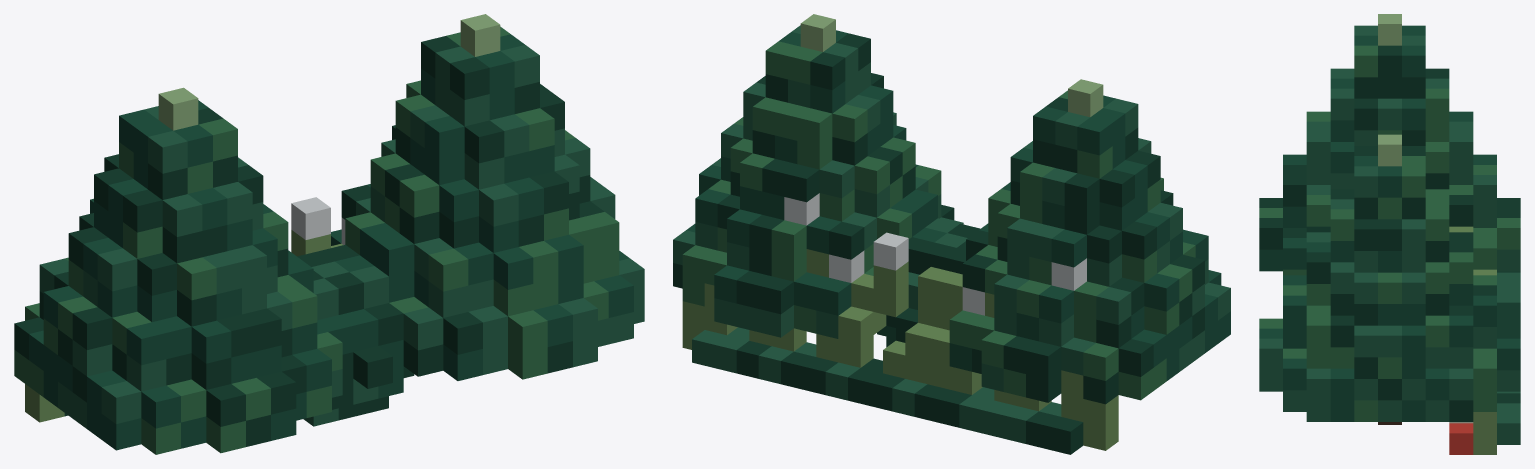
The model's file is spawn_cover_02.fbx.
3 views of the same model, side by side, from view 1: azimuth 30°, elevation 25°; view 2: azimuth 150°, elevation 25°; view 3: azimuth 270°, elevation 25° (orthographic). The views are drawn at different scales.
Parts seen in each view (by area): view 1: spawn_cover_02_LeftLobe, spawn_cover_02_RightLobe; view 2: spawn_cover_02_LeftLobe, spawn_cover_02_RightLobe, spawn_cover_02_Core; view 3: spawn_cover_02_RightLobe, spawn_cover_02_LeftLobe, spawn_cover_02_Core.
Boxes of the visible parts, <box> form: spawn_cover_02_LeftLobe: <box>14,87,392,454</box>; spawn_cover_02_RightLobe: <box>291,14,644,414</box>; spawn_cover_02_LeftLobe: <box>883,79,1230,450</box>; spawn_cover_02_RightLobe: <box>673,14,967,367</box>; spawn_cover_02_Core: <box>692,327,1083,454</box>; spawn_cover_02_RightLobe: <box>1259,134,1520,454</box>; spawn_cover_02_LeftLobe: <box>1259,14,1520,275</box>; spawn_cover_02_Core: <box>1497,271,1520,444</box>.
Bounding box in the file's own units: 1050 × 650 × 550.
